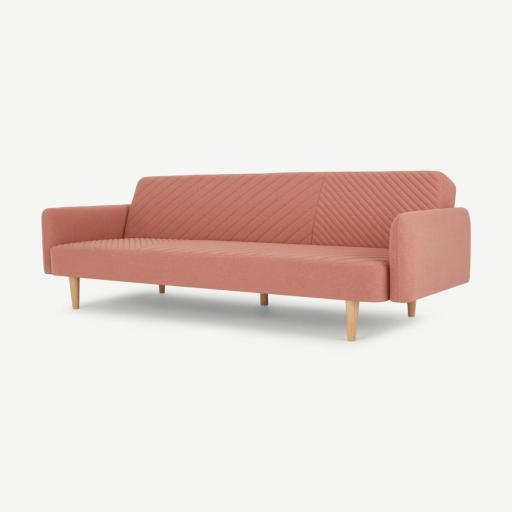back_cushion: (124, 171, 455, 248)
left_arm: (389, 208, 470, 316)
legs: (346, 301, 358, 341), (69, 277, 80, 309), (408, 301, 415, 317), (260, 294, 268, 306), (159, 285, 164, 293), (27, 49, 31, 51)
right_arm: (42, 171, 470, 341), (42, 205, 128, 273)
seat_cushion: (53, 238, 388, 301)
two-seater: (0, 0, 511, 512)
